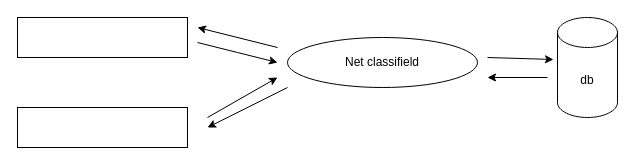
This 635x165 diagram has some shape labels left out. Each missing label, with the centre of its shape:
"ADMIN" goes at [102,37].
"USER" goes at [102,127].
